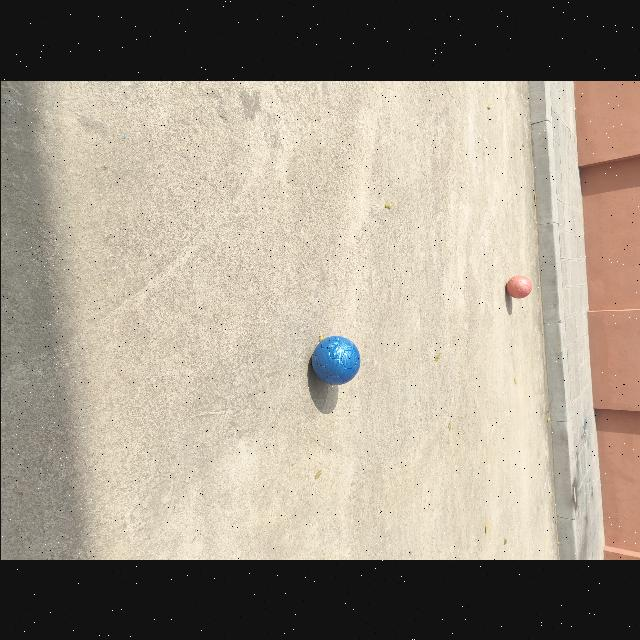B: (310, 335, 359, 385)
R: (505, 274, 530, 297)
